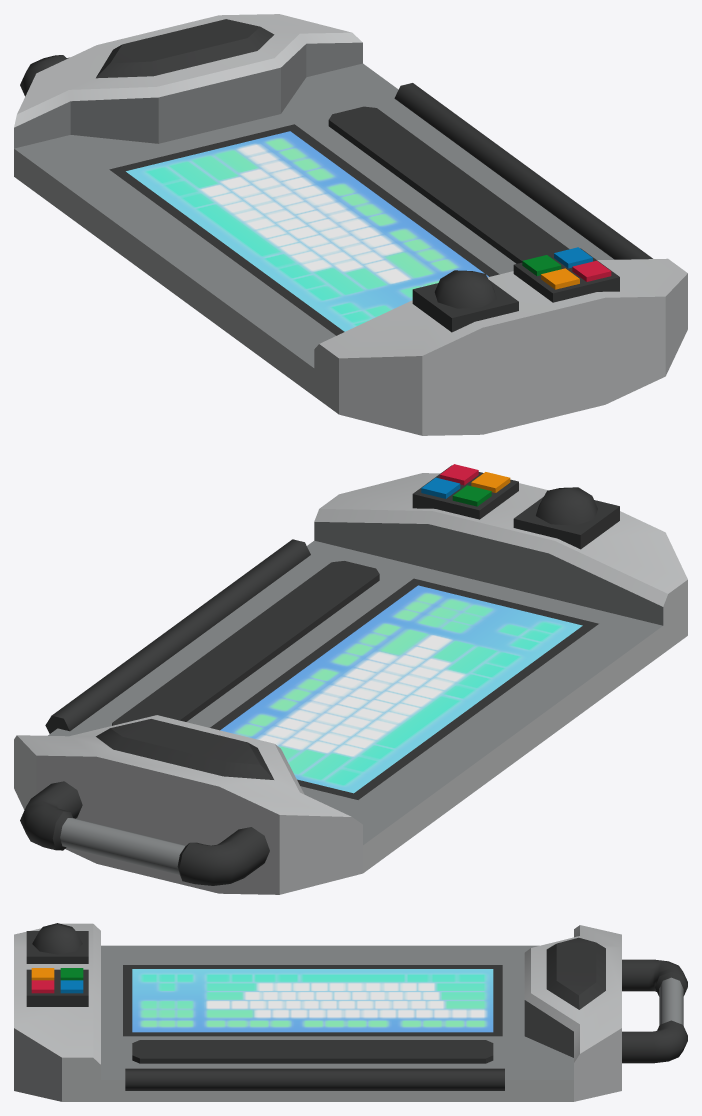
The model's file is Laptop_005.fbx.
3 renders of one model, top to bottom at view 1: azimuth 30°, elevation 25°; view 2: azimuth 150°, elevation 25°; view 3: azimuth 270°, elevation 25°, orthographic. The views are drawn at different scales.
Parts seen in each view (by area): view 1: Laptop_005; view 2: Laptop_005; view 3: Laptop_005.
Part boxes in pixels (x1,y1,x2,y2): Laptop_005: (14,14,687,435); Laptop_005: (14,464,687,894); Laptop_005: (14,923,687,1101).
Bounding box in the file's own units: 32.26 × 66.18 × 11.96.
